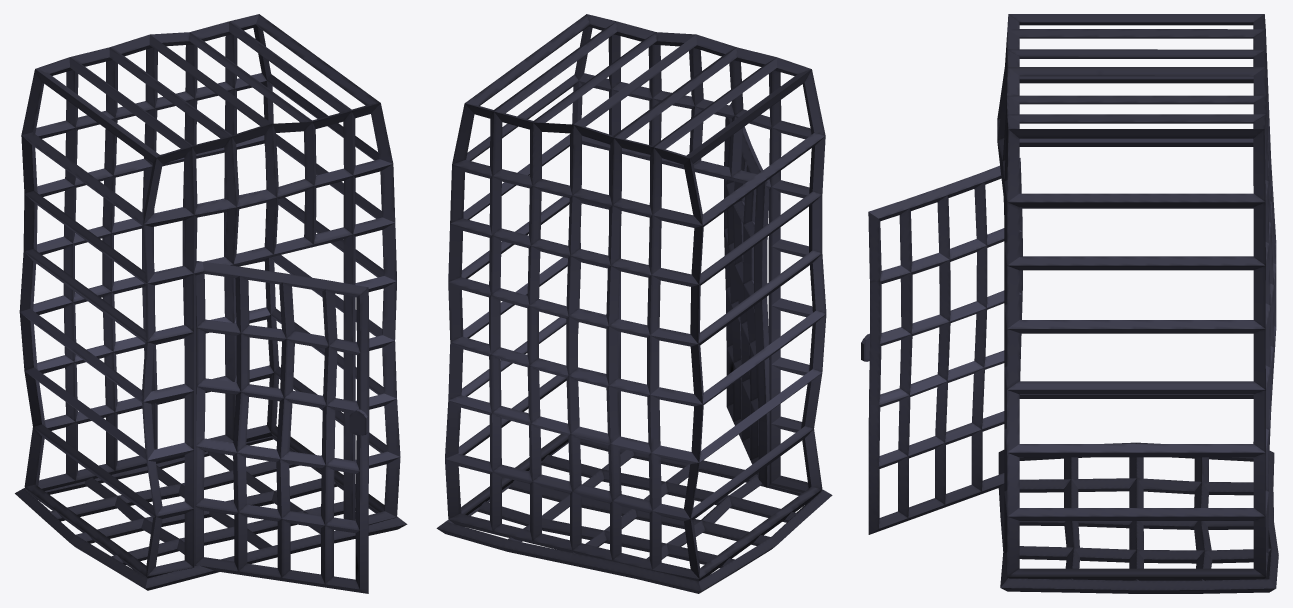
Rendered from Gaiola.fbx.
The picture shows the model from 3 angles, left to right: view 1: azimuth 30°, elevation 25°; view 2: azimuth 150°, elevation 25°; view 3: azimuth 270°, elevation 25°; orthographic projection. The views are drawn at different scales.
Visible parts, largest first — view 1: Gaiola quadrada; view 2: Gaiola quadrada; view 3: Gaiola quadrada.
Part boxes in pixels (box(x1,y1,x2,y2)): Gaiola quadrada: box(15, 14, 407, 593); Gaiola quadrada: box(436, 14, 832, 593); Gaiola quadrada: box(861, 14, 1278, 593).
Bounding box in the file's own units: 125 × 193 × 157.
